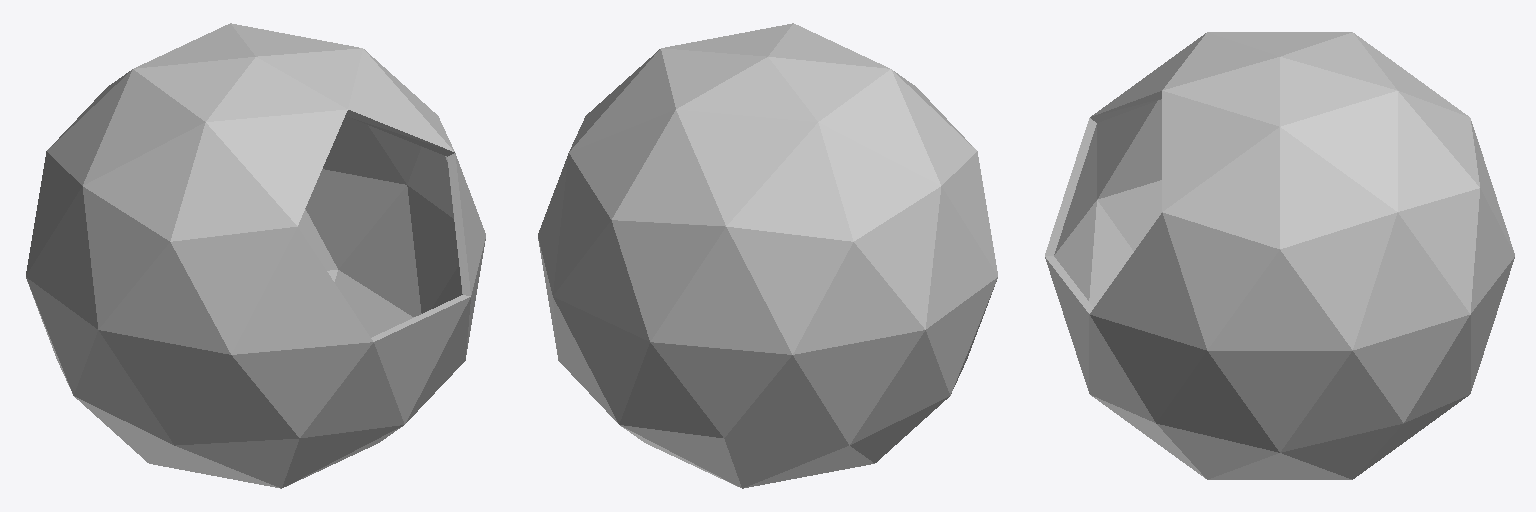
Rendered from ball2.obj.
3 renders of one model, left to right at view 1: azimuth 30°, elevation 25°; view 2: azimuth 150°, elevation 25°; view 3: azimuth 270°, elevation 25°, orthographic.
Size of the model in its own units: 8.14 by 7.99 by 8.55.